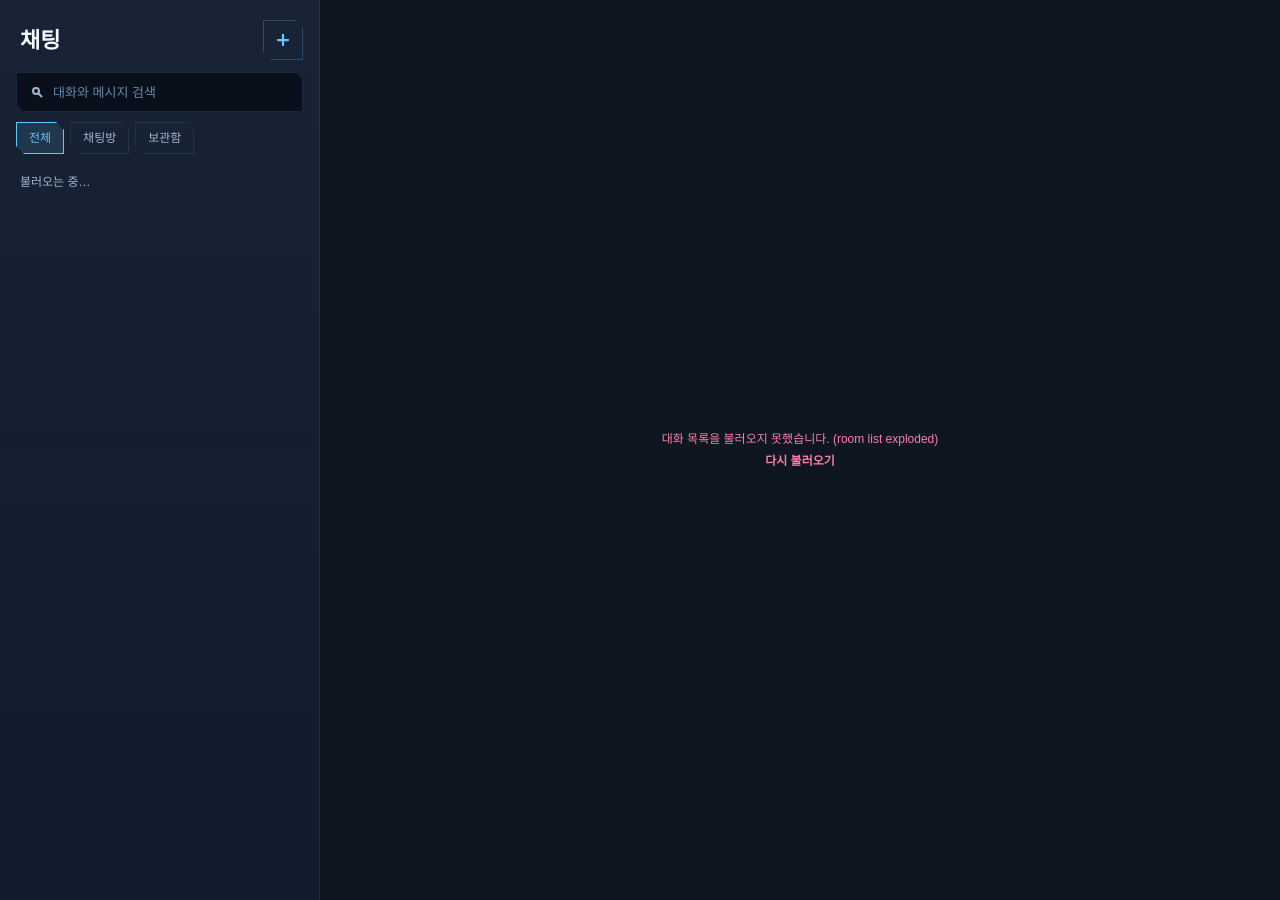
Test: MessengerPage — empty / active rendering (R5-Task3) › shows a failed list read with a retry instead of "select a channel" (spec 2026-10-08 F1, QA)
The width and height of the screenshot is (1280, 900).
Expected: the message with test id "thread-load-error" shows "대화 목록을 불러오지 못했습니다.", [662, 432, 938, 446]
Expected: the message with test id "thread-load-error" shows "room list exploded", [662, 432, 938, 446]
Click the button with test id "thread-load-retry" at (800, 461), box [765, 453, 835, 469]
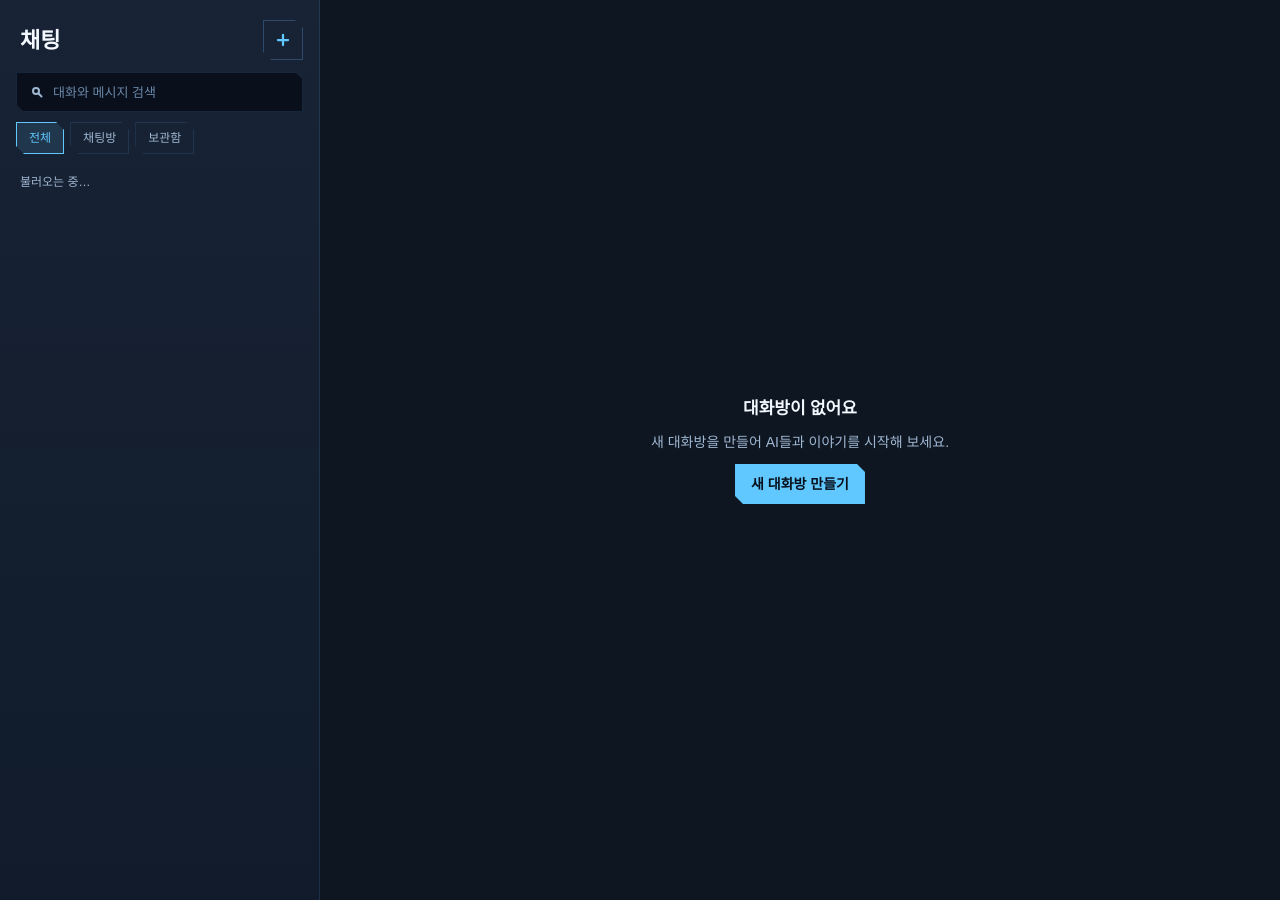
Now the element with test id "thread-no-conversations" is shown, box [651, 396, 949, 504]
